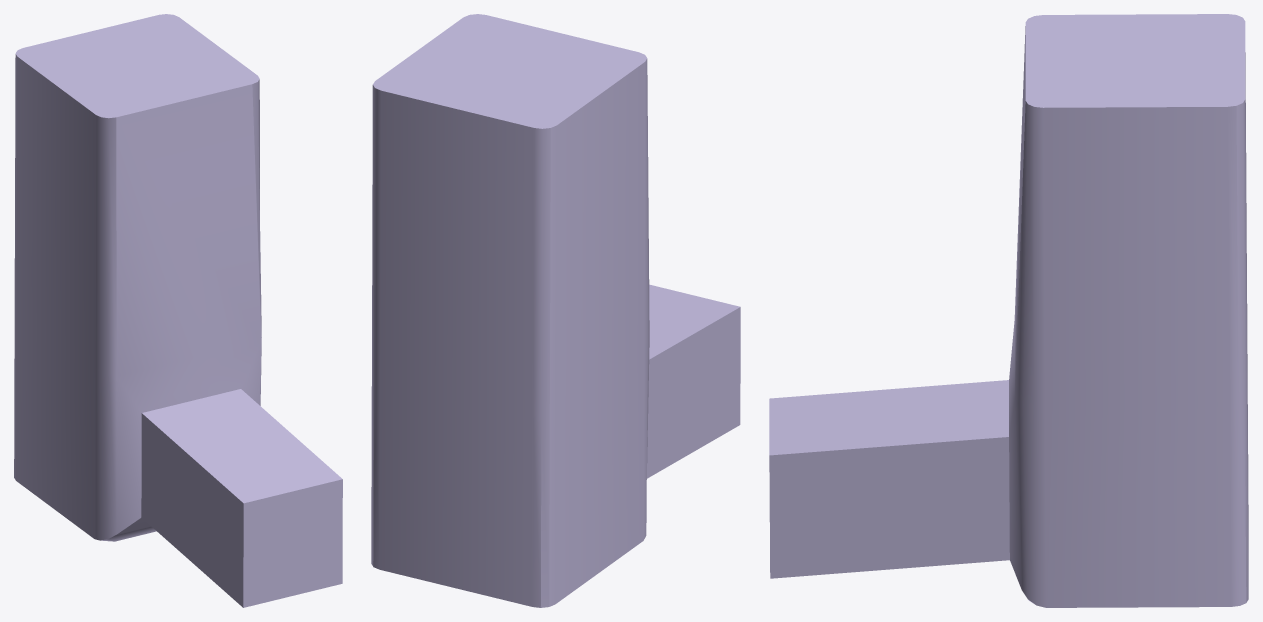
File: MoneyGun.fbx
3 renders of one model, left to right at view 1: azimuth 30°, elevation 25°; view 2: azimuth 150°, elevation 25°; view 3: azimuth 270°, elevation 25°, orthographic. The views are drawn at different scales.
Parts seen in each view (by area): view 1: Gun; view 2: Gun; view 3: Gun.
Boxes of the visible parts, x1,y1,x2,y2 form: Gun: (14,14,342,607); Gun: (371,14,740,607); Gun: (769,14,1248,607).
Bounding box in the file's own units: 17.95 × 45.2 × 39.16.
